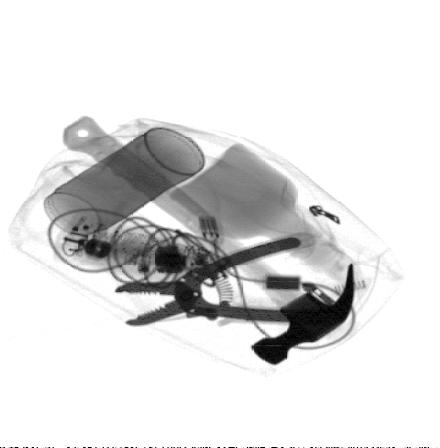Hammer: (63, 114, 355, 365)
Pliers: (115, 231, 330, 327)
